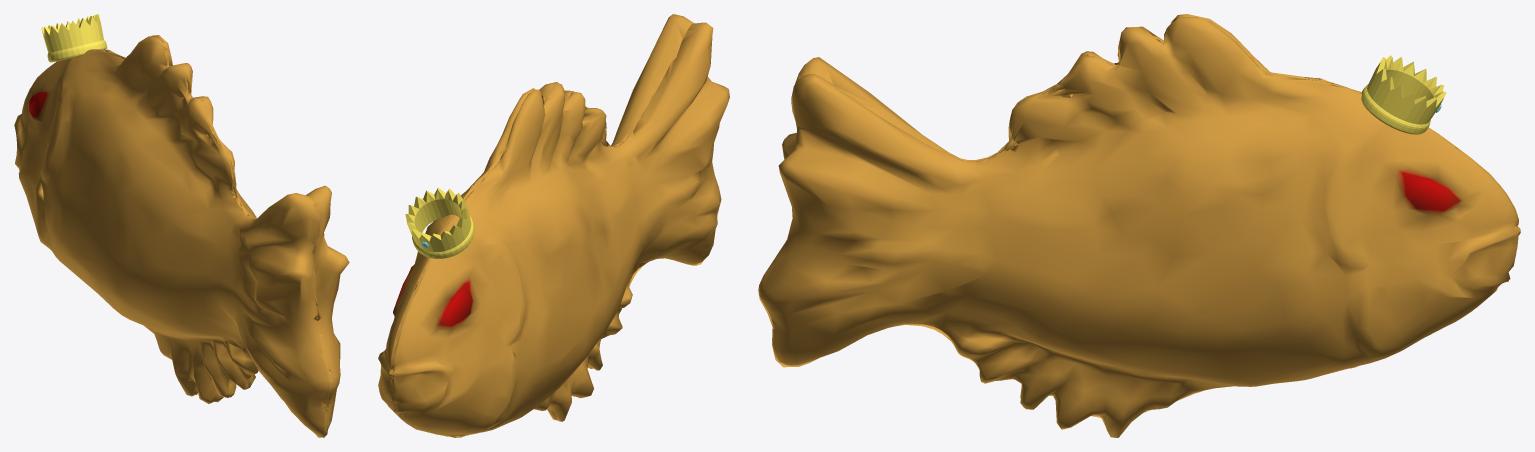
Rendered from ingLv3.fbx.
The picture shows the model from 3 angles, left to right: view 1: azimuth 30°, elevation 25°; view 2: azimuth 150°, elevation 25°; view 3: azimuth 270°, elevation 25°; orthographic projection. The views are drawn at different scales.
Visible parts, largest first — view 1: Quad_Sphere.003, Cylinder; view 2: Quad_Sphere.003, Cylinder; view 3: Quad_Sphere.003, Cylinder.
Part boxes in pixels (left/top/right/bottom): Quad_Sphere.003: left=14, top=35, right=349, bottom=437; Cylinder: left=41, top=14, right=107, bottom=62; Quad_Sphere.003: left=378, top=14, right=729, bottom=437; Cylinder: left=405, top=187, right=474, bottom=258; Quad_Sphere.003: left=758, top=14, right=1520, bottom=437; Cylinder: left=1361, top=55, right=1446, bottom=134.
Bounding box in the file's own units: 82 × 220 × 361.
